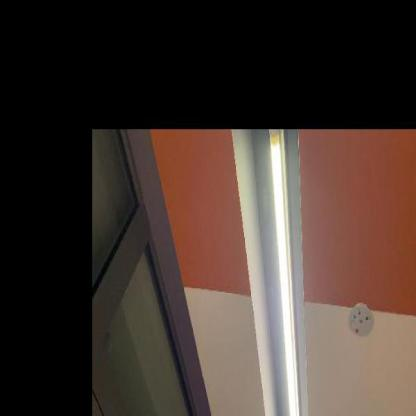light_on: (264, 128, 309, 415)
